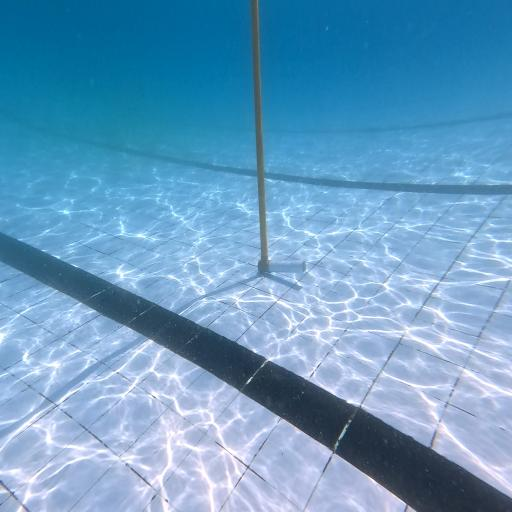pole_gate: (251, 0, 269, 273)
